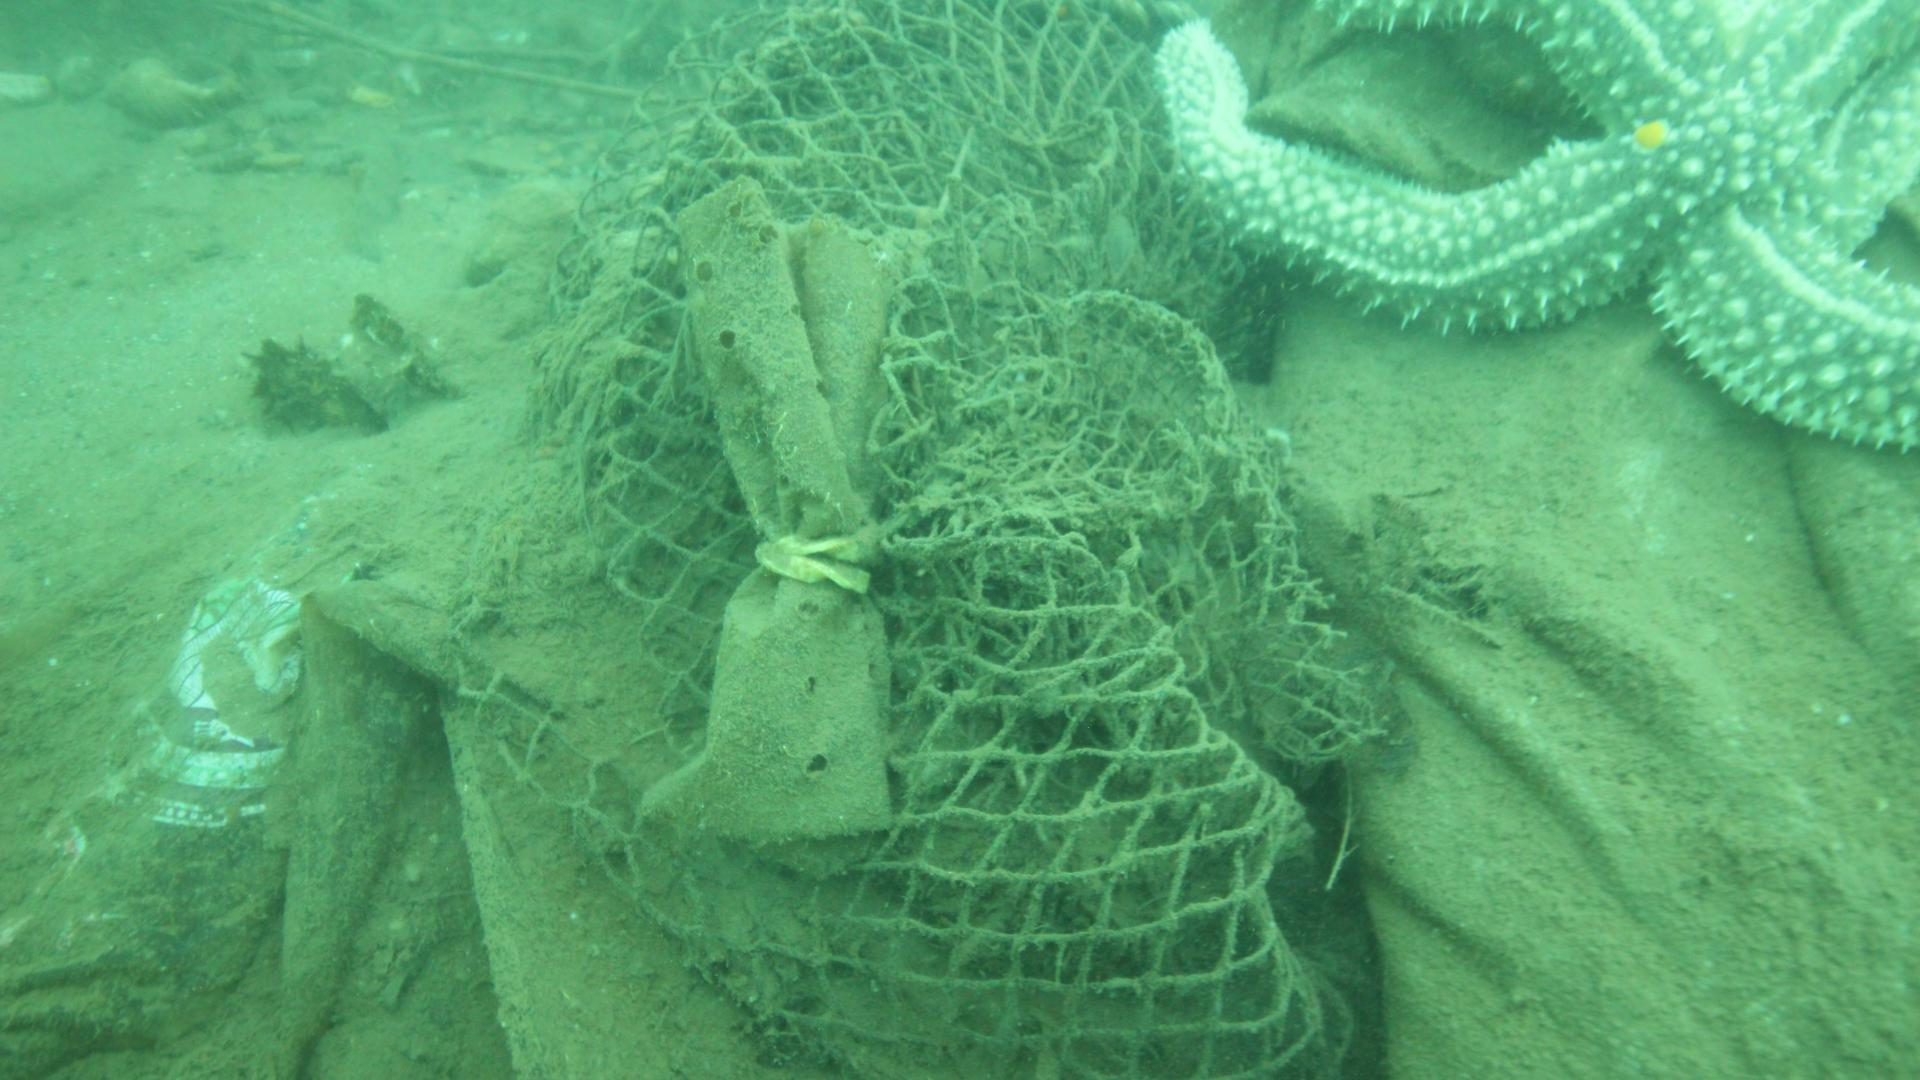fish net: (448, 0, 1389, 1080)
